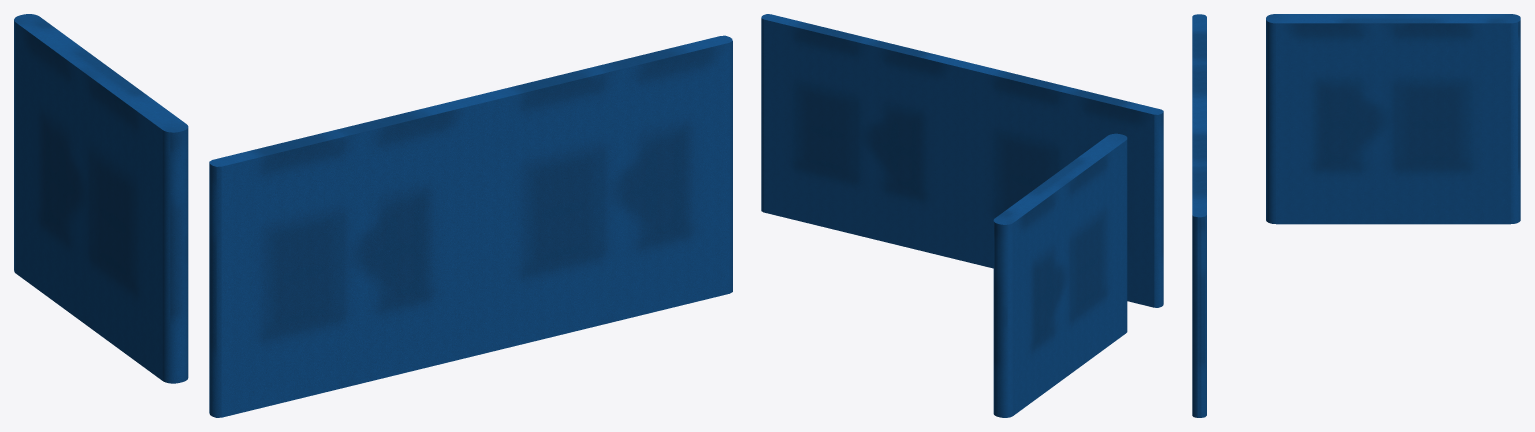
File: 4-standing-binder-band-2-1.fbx
The picture shows the model from 3 angles, left to right: view 1: azimuth 30°, elevation 25°; view 2: azimuth 150°, elevation 25°; view 3: azimuth 270°, elevation 25°; orthographic projection. The views are drawn at different scales.
Visible parts, largest first — view 1: standing-binder-band-2-1; view 2: standing-binder-band-2-1; view 3: standing-binder-band-2-1.
Part boxes in pixels (x1,y1,x2,y2): standing-binder-band-2-1: (14, 14, 732, 417); standing-binder-band-2-1: (761, 14, 1163, 417); standing-binder-band-2-1: (1192, 14, 1520, 417).
Bounding box in the file's own units: 13020 × 6000 × 8900.
1 material, 1 textured.
